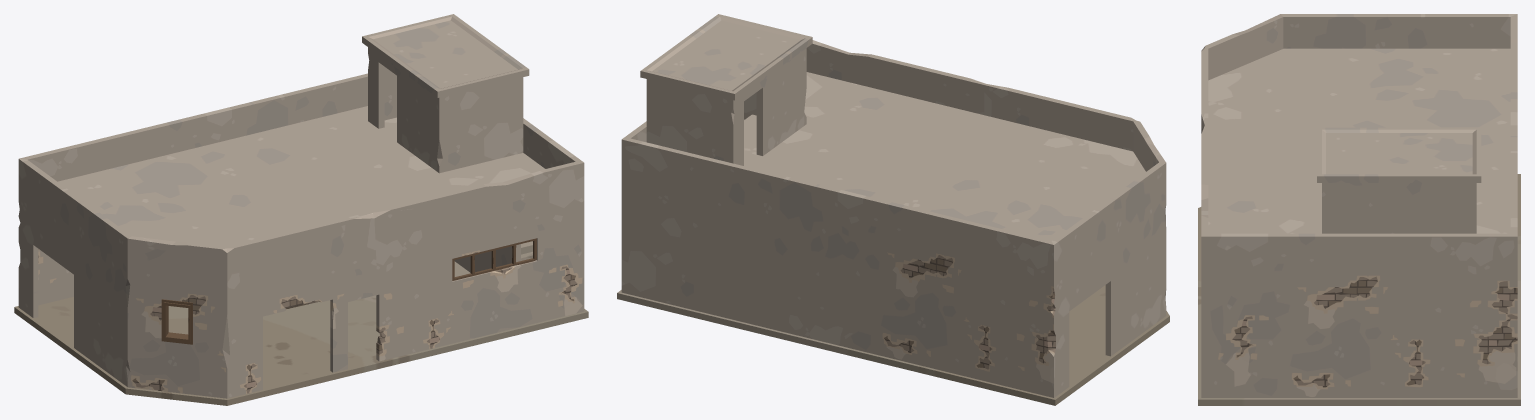
Rendered from SM_Bld_Shop_07.fbx.
The picture shows the model from 3 angles, left to right: view 1: azimuth 30°, elevation 25°; view 2: azimuth 150°, elevation 25°; view 3: azimuth 270°, elevation 25°; orthographic projection. The views are drawn at different scales.
Visible parts, largest first — view 1: SM_Bld_Shop_07; view 2: SM_Bld_Shop_07; view 3: SM_Bld_Shop_07.
Part boxes in pixels (<box>): SM_Bld_Shop_07: <box>14,14,588,405</box>; SM_Bld_Shop_07: <box>617,14,1169,405</box>; SM_Bld_Shop_07: <box>1198,14,1520,405</box>.
Bounding box in the file's own units: 1520 × 714 × 919.
